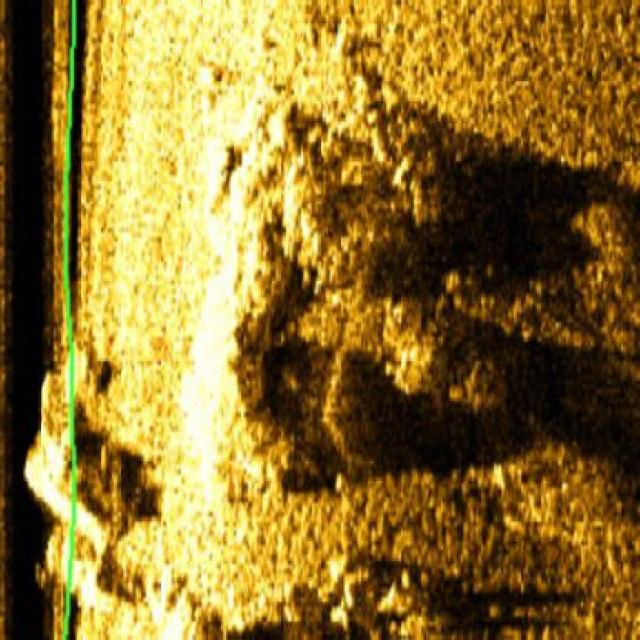bedrock group: (18, 2, 634, 640)
